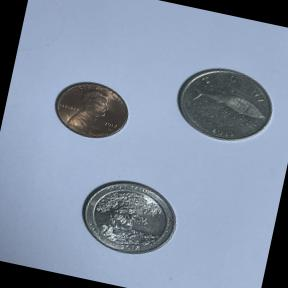coin: (163, 55, 286, 156), (66, 166, 188, 266), (42, 70, 142, 152)
